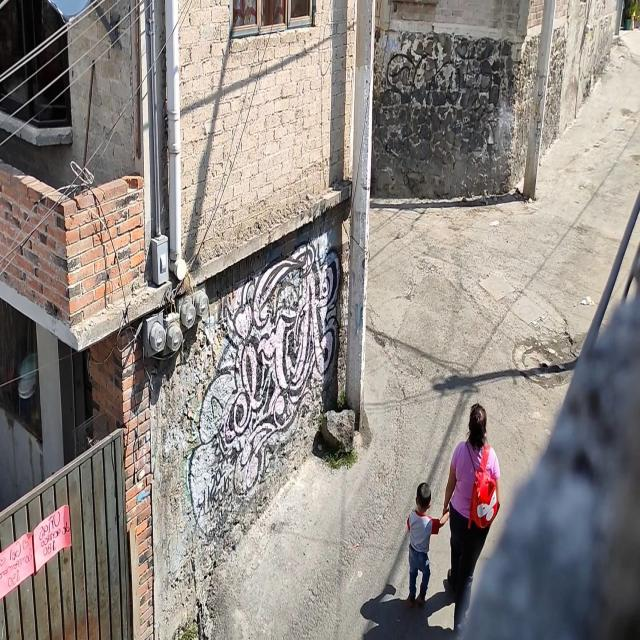adult: (442, 406, 501, 640)
child: (405, 482, 450, 608)
